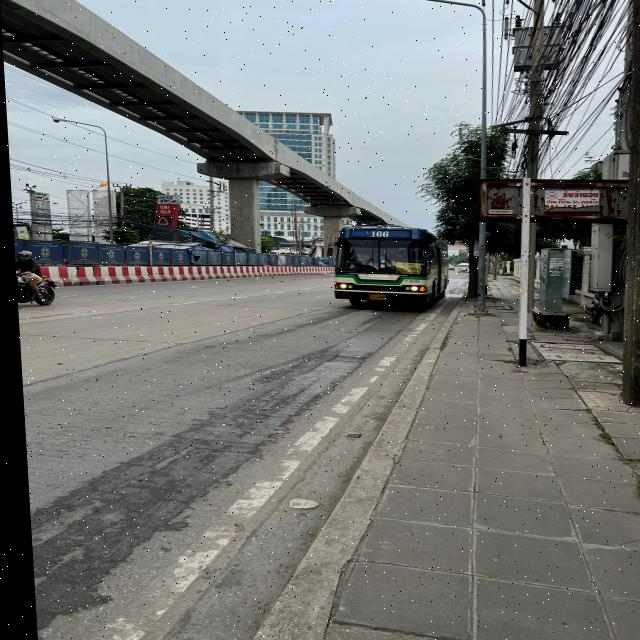BMTA-bus: (324, 222, 449, 308)
Bus-Line-Number: (364, 230, 390, 239)
Destination-Sign-Normal-Expressway: (393, 262, 418, 275)
